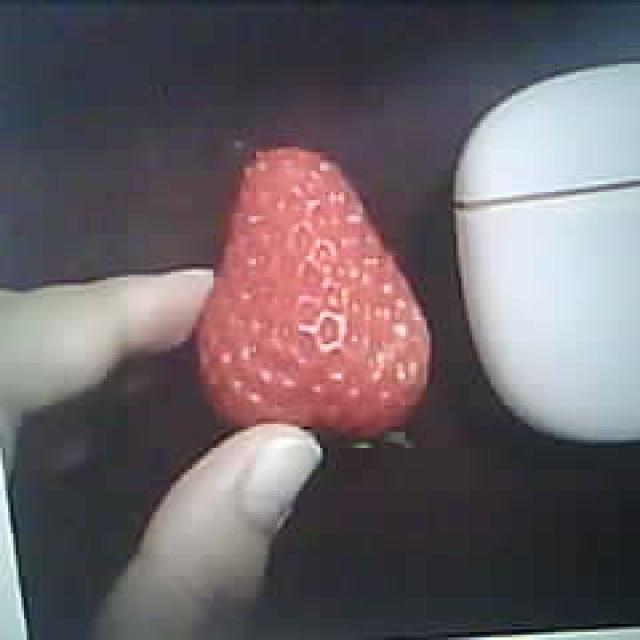ripe: (193, 148, 430, 444)
